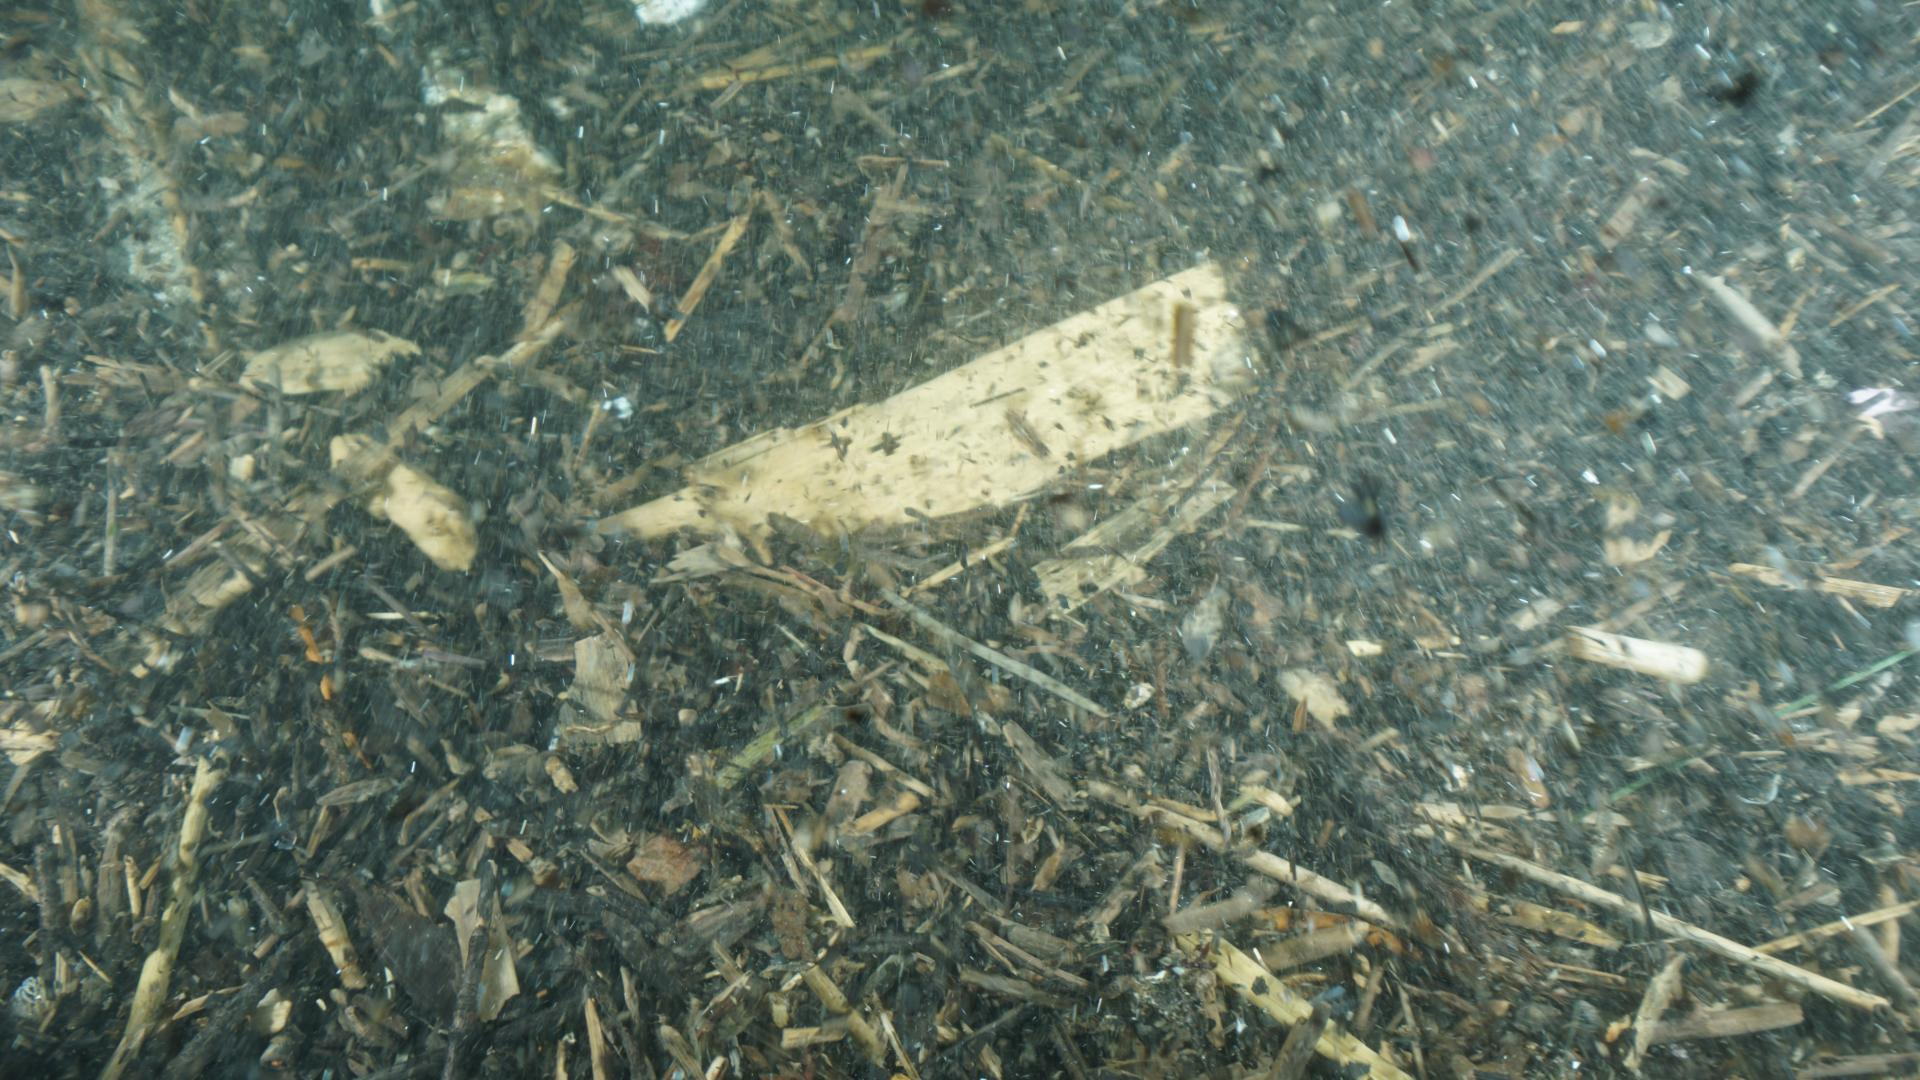wood: (582, 257, 1271, 564)
